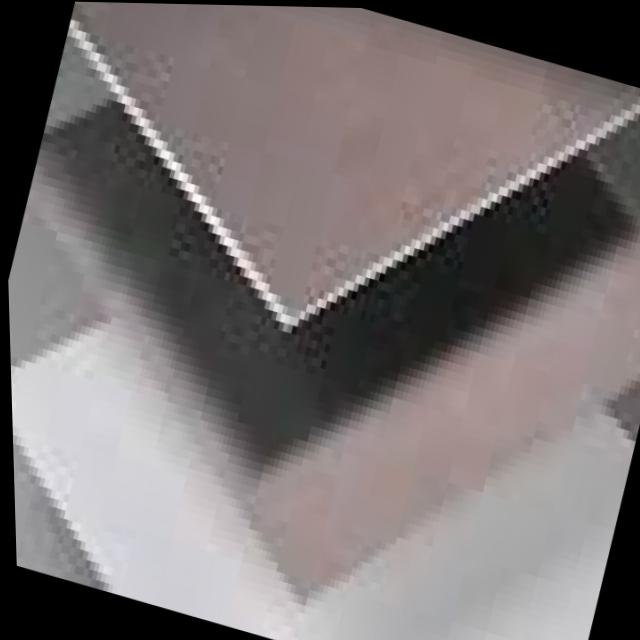metal-plates: (67, 2, 640, 320)
